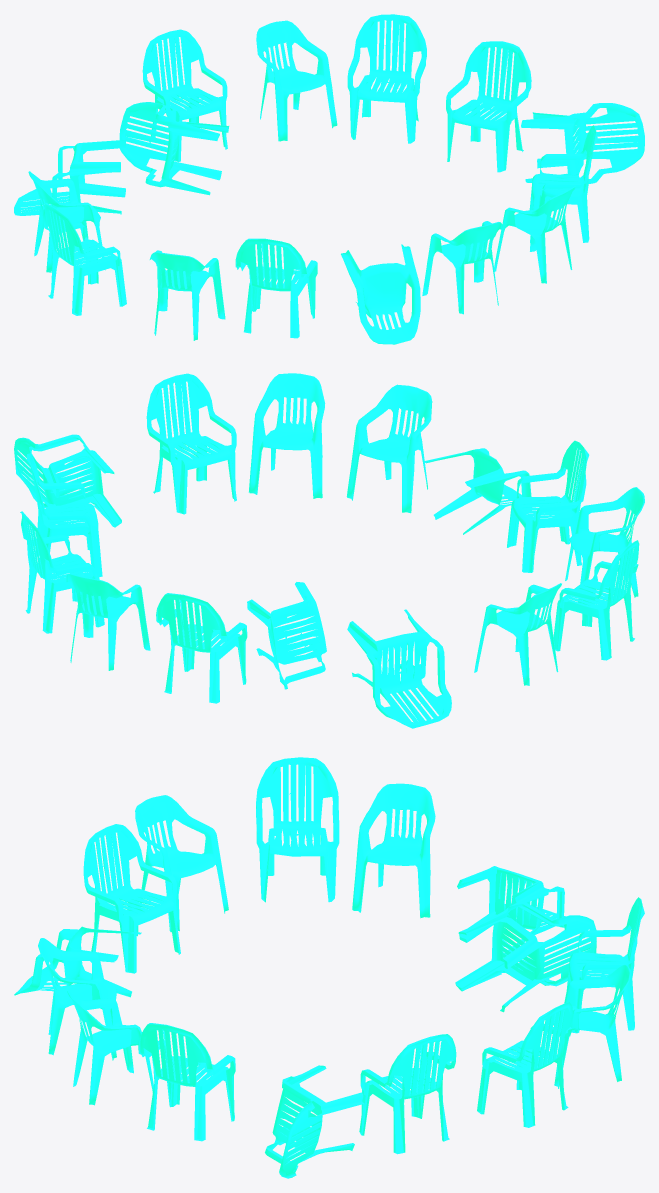
File: Chair.glb
The picture shows the model from 3 angles, top to bottom: view 1: azimuth 30°, elevation 25°; view 2: azimuth 150°, elevation 25°; view 3: azimuth 270°, elevation 25°; orthographic projection. The views are drawn at different scales.
Visible parts, largest first — view 1: Chair006; view 2: Chair006; view 3: Chair006.
Boxes of the visible parts, <box> form: Chair006: <box>14,14,644,344</box>; Chair006: <box>14,373,644,728</box>; Chair006: <box>14,757,644,1178</box>.
Size of the model in its own units: 11.29 by 1.92 by 9.29.
